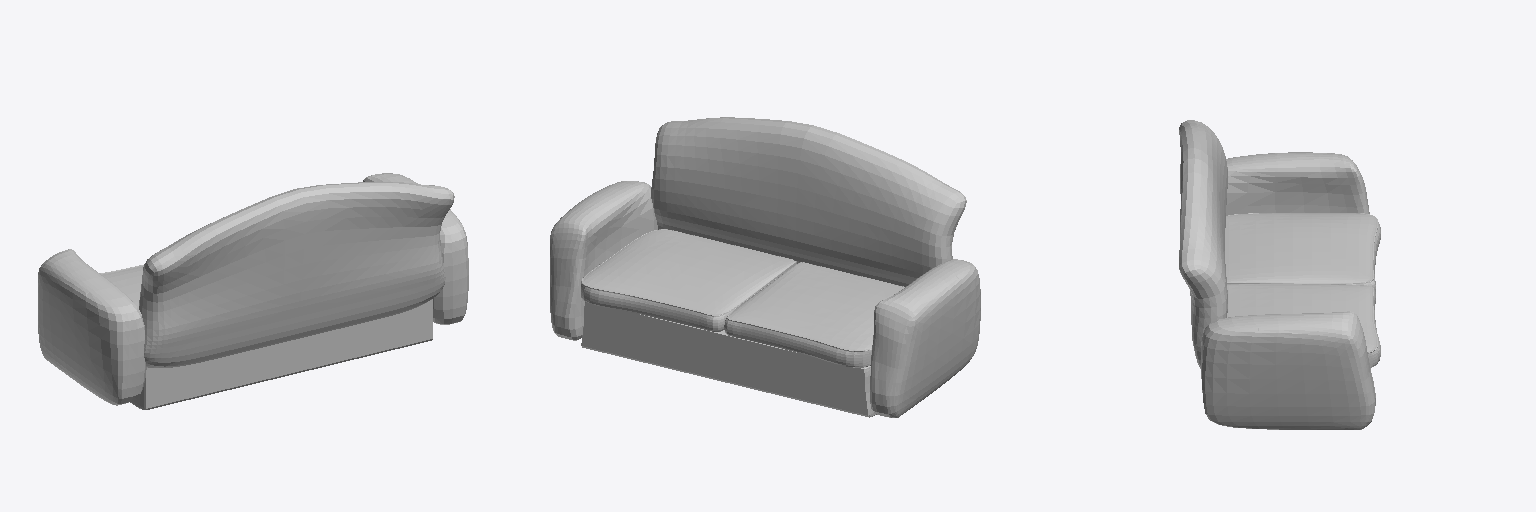
File: couch_real5.obj
The picture shows the model from 3 angles: view 1: azimuth 30°, elevation 25°; view 2: azimuth 150°, elevation 25°; view 3: azimuth 270°, elevation 25°; orthographic projection.
Visible parts, largest first — view 1: sofa_Cube_Material.004; view 2: sofa_Cube_Material.004; view 3: sofa_Cube_Material.004.
Part boxes in pixels (x1,y1,x2,y2): sofa_Cube_Material.004: (38,173,468,409); sofa_Cube_Material.004: (550,117,980,417); sofa_Cube_Material.004: (1179,120,1380,429).
Bounding box in the file's own units: 10 × 5.04 × 4.74.